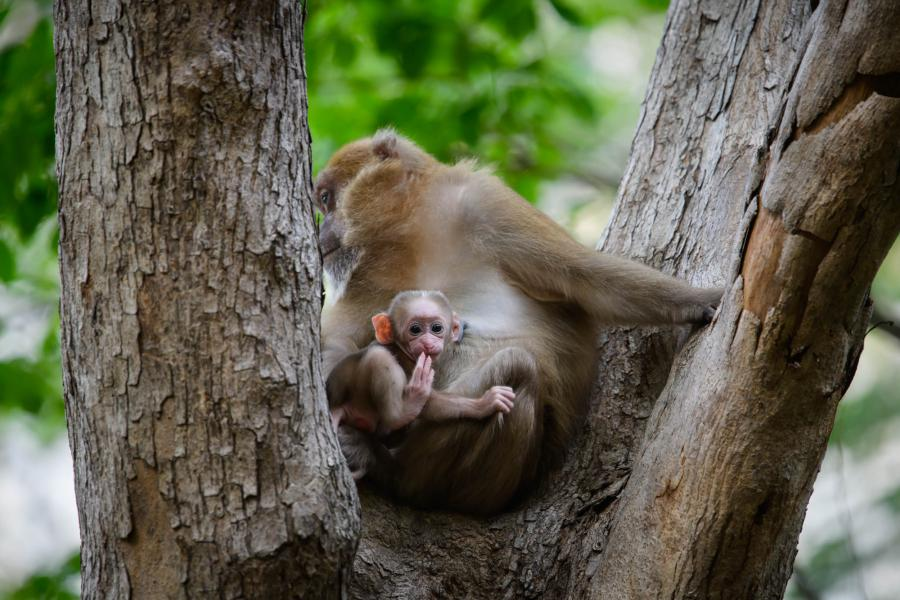monkey: (291, 116, 750, 539), (297, 271, 530, 463)
